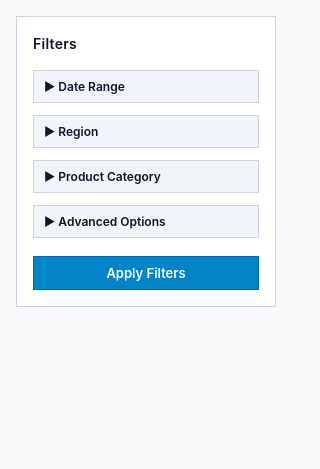
Test case: Target UI & Task State Test Suite (Task 11.1) › FilterDrawer Component › toggles accordions open and closed on click
Expected: the button "▶ Date Range" is shown, x1=34 y1=71 x2=258 y2=102
Expected: the text "Electronics" is not shown
// Open Product Category accordion
Click the button "▶ Product Category". click: (146, 176)
box: x1=34 y1=161 x2=258 y2=192
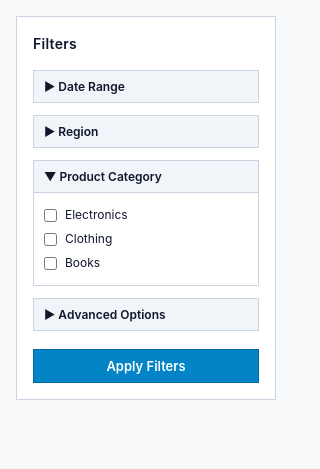
Expected: the text "Electronics" is shown, x1=44 y1=207 x2=128 y2=222
// Open then collapse Date Range accordion
Click the button "▶ Date Range". click: (146, 86)
box: x1=34 y1=71 x2=258 y2=102
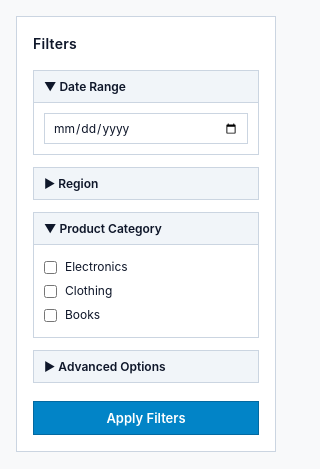
Expected: the button "▼ Date Range" is shown
Click the button "▼ Date Range". click: (146, 86)
box: x1=34 y1=71 x2=258 y2=102
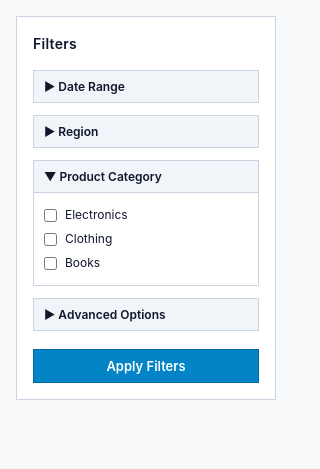
Expected: the button "▶ Date Range" is shown, x1=34 y1=71 x2=258 y2=102
